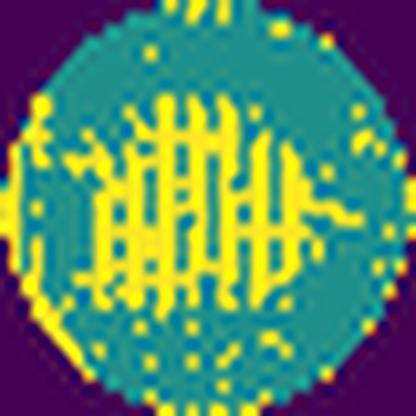Center: (90, 96, 365, 322)
